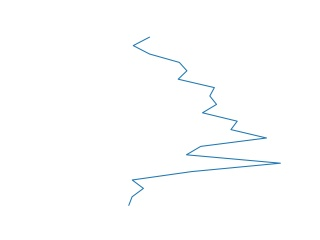floodSwamp: (126, 38, 281, 206)
